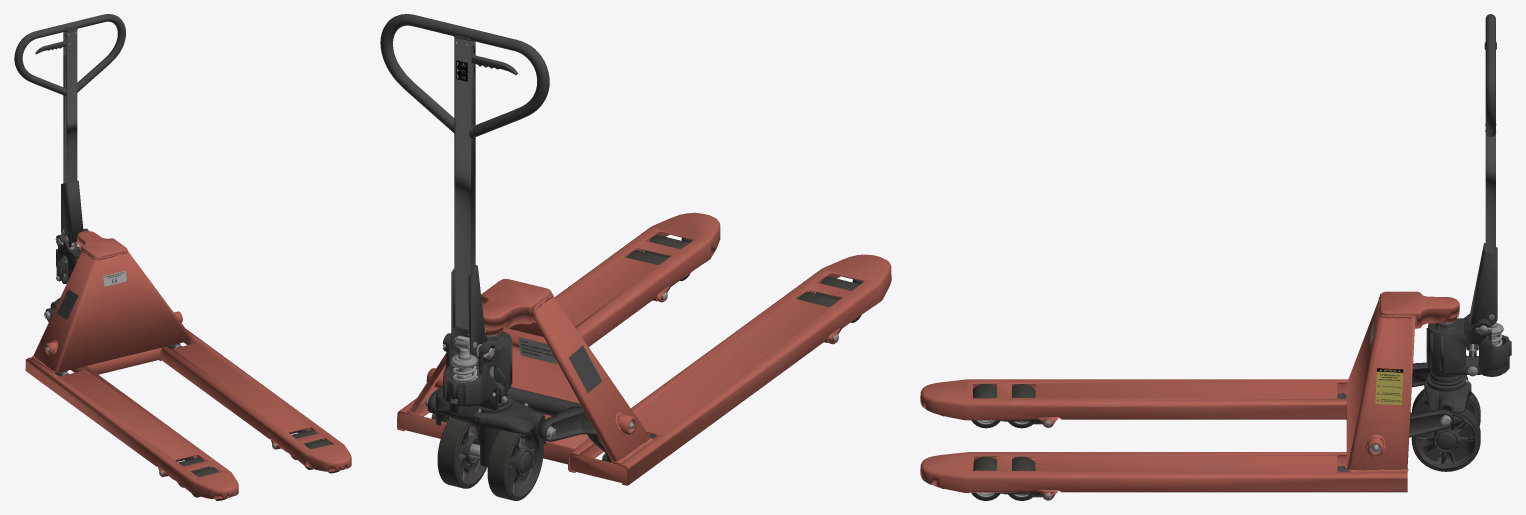
Rendered from palletJack_lowProfile_a01.glb.
3 views of the same model, side by side, from view 1: azimuth 30°, elevation 25°; view 2: azimuth 150°, elevation 25°; view 3: azimuth 270°, elevation 25° (orthographic). The views are drawn at different scales.
Visible parts, largest first — view 1: sm_backwheel_a01_mesh_00, sm_handlemain_a01_mesh_00; view 2: sm_backwheel_a01_mesh_00, sm_handlemain_a01_mesh_00; view 3: sm_backwheel_a01_mesh_00, sm_handlemain_a01_mesh_00.
Boxes of the visible parts, x1=… form: sm_backwheel_a01_mesh_00: x1=14, y1=14, x2=351, y2=500; sm_handlemain_a01_mesh_00: x1=57, y1=270, x2=126, y2=319; sm_backwheel_a01_mesh_00: x1=380, y1=14, x2=891, y2=500; sm_handlemain_a01_mesh_00: x1=456, y1=60, x2=601, y2=392; sm_backwheel_a01_mesh_00: x1=920, y1=14, x2=1511, y2=500; sm_handlemain_a01_mesh_00: x1=1370, y1=320, x2=1403, y2=405.
Size of the model in its own units: 0.6532 by 1.27 by 1.63.
Materials: 2 (2 with a texture image).
